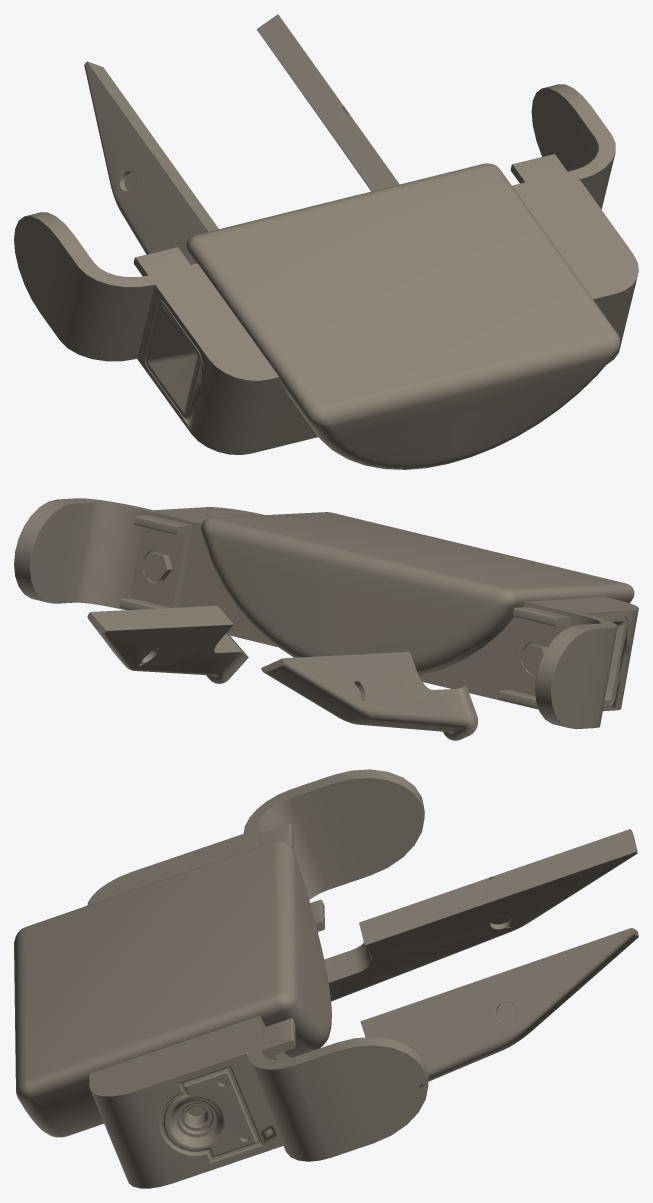
The model's file is shooter4.fbx.
The picture shows the model from 3 angles, top to bottom: view 1: azimuth 30°, elevation 25°; view 2: azimuth 150°, elevation 25°; view 3: azimuth 270°, elevation 25°; orthographic projection. The views are drawn at different scales.
Visible parts, largest first — view 1: shooter4; view 2: shooter4; view 3: shooter4.
Boxes of the visible parts, box(x1,y1,x2,y2) form: shooter4: box(14, 14, 638, 469); shooter4: box(14, 498, 638, 740); shooter4: box(14, 769, 638, 1188).
Size of the model in its own units: 49.72 by 20.21 by 47.55.
